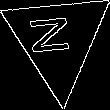N_E: (33, 18, 82, 63)
